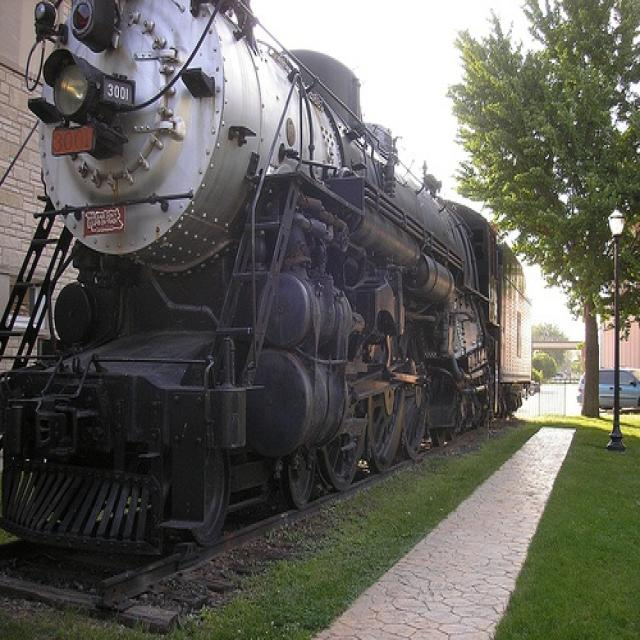car: (577, 367, 639, 415)
train: (0, 0, 535, 561)
